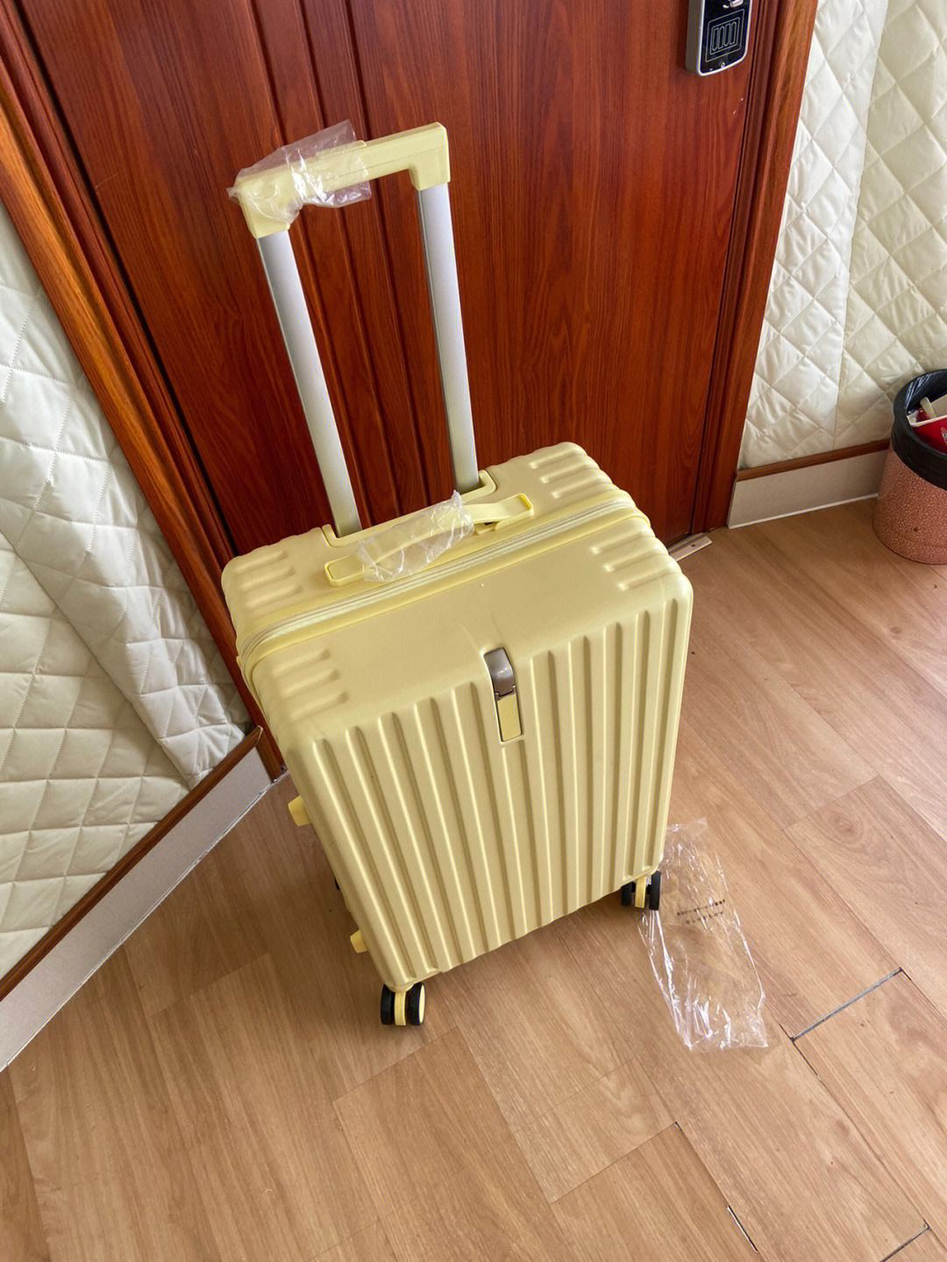box: (218, 441, 694, 990)
handle: (323, 493, 533, 588)
wheel: (380, 982, 425, 1027), (619, 872, 664, 911)
